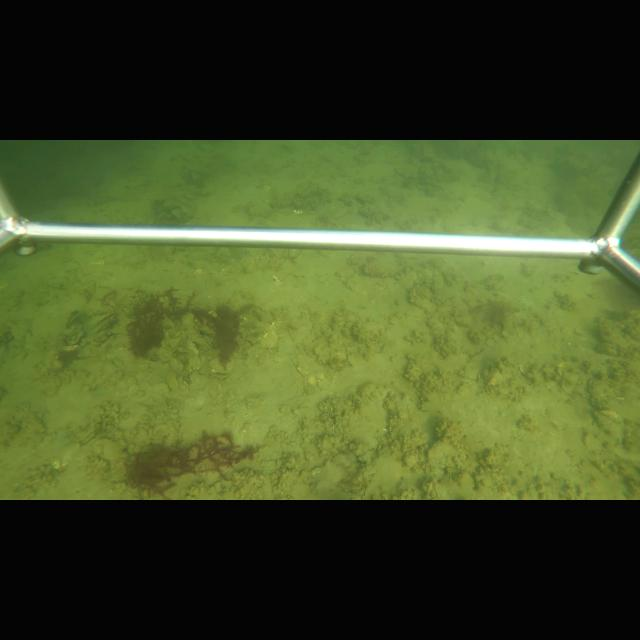Oyster-Open: (206, 356, 236, 378), (65, 309, 83, 331), (95, 310, 116, 326)
